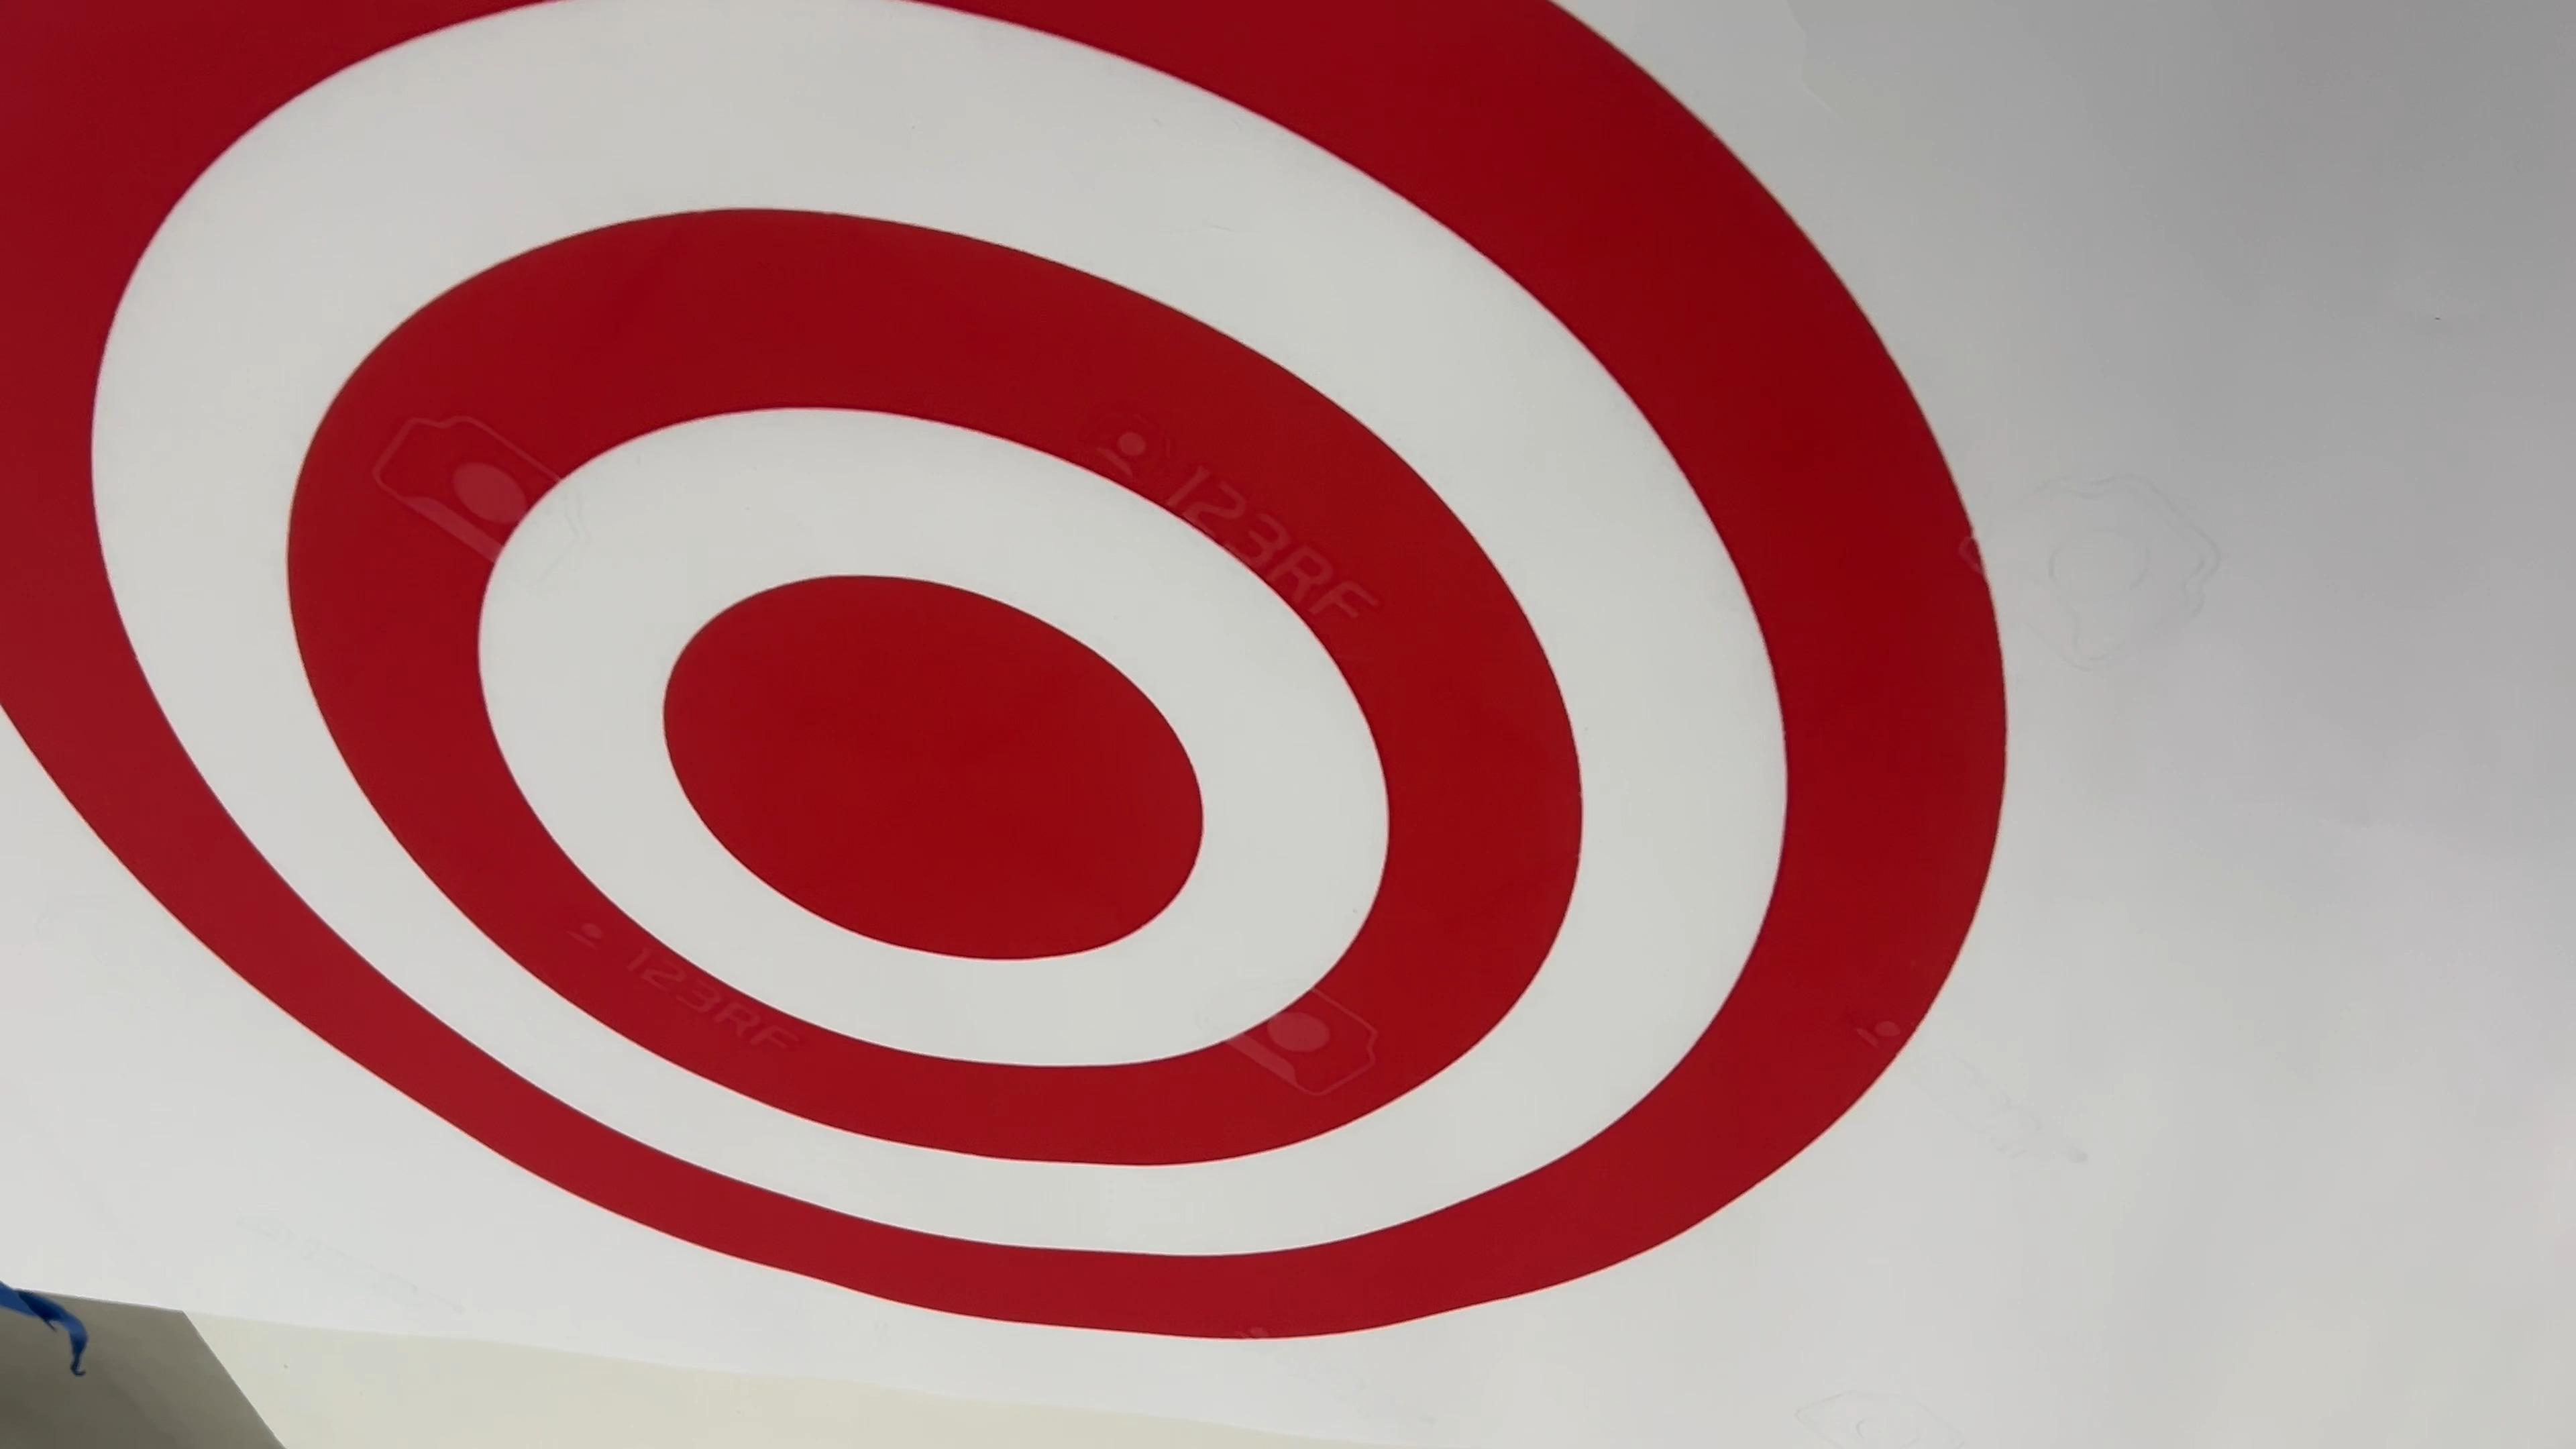target_red: (0, 0, 2065, 1391)
